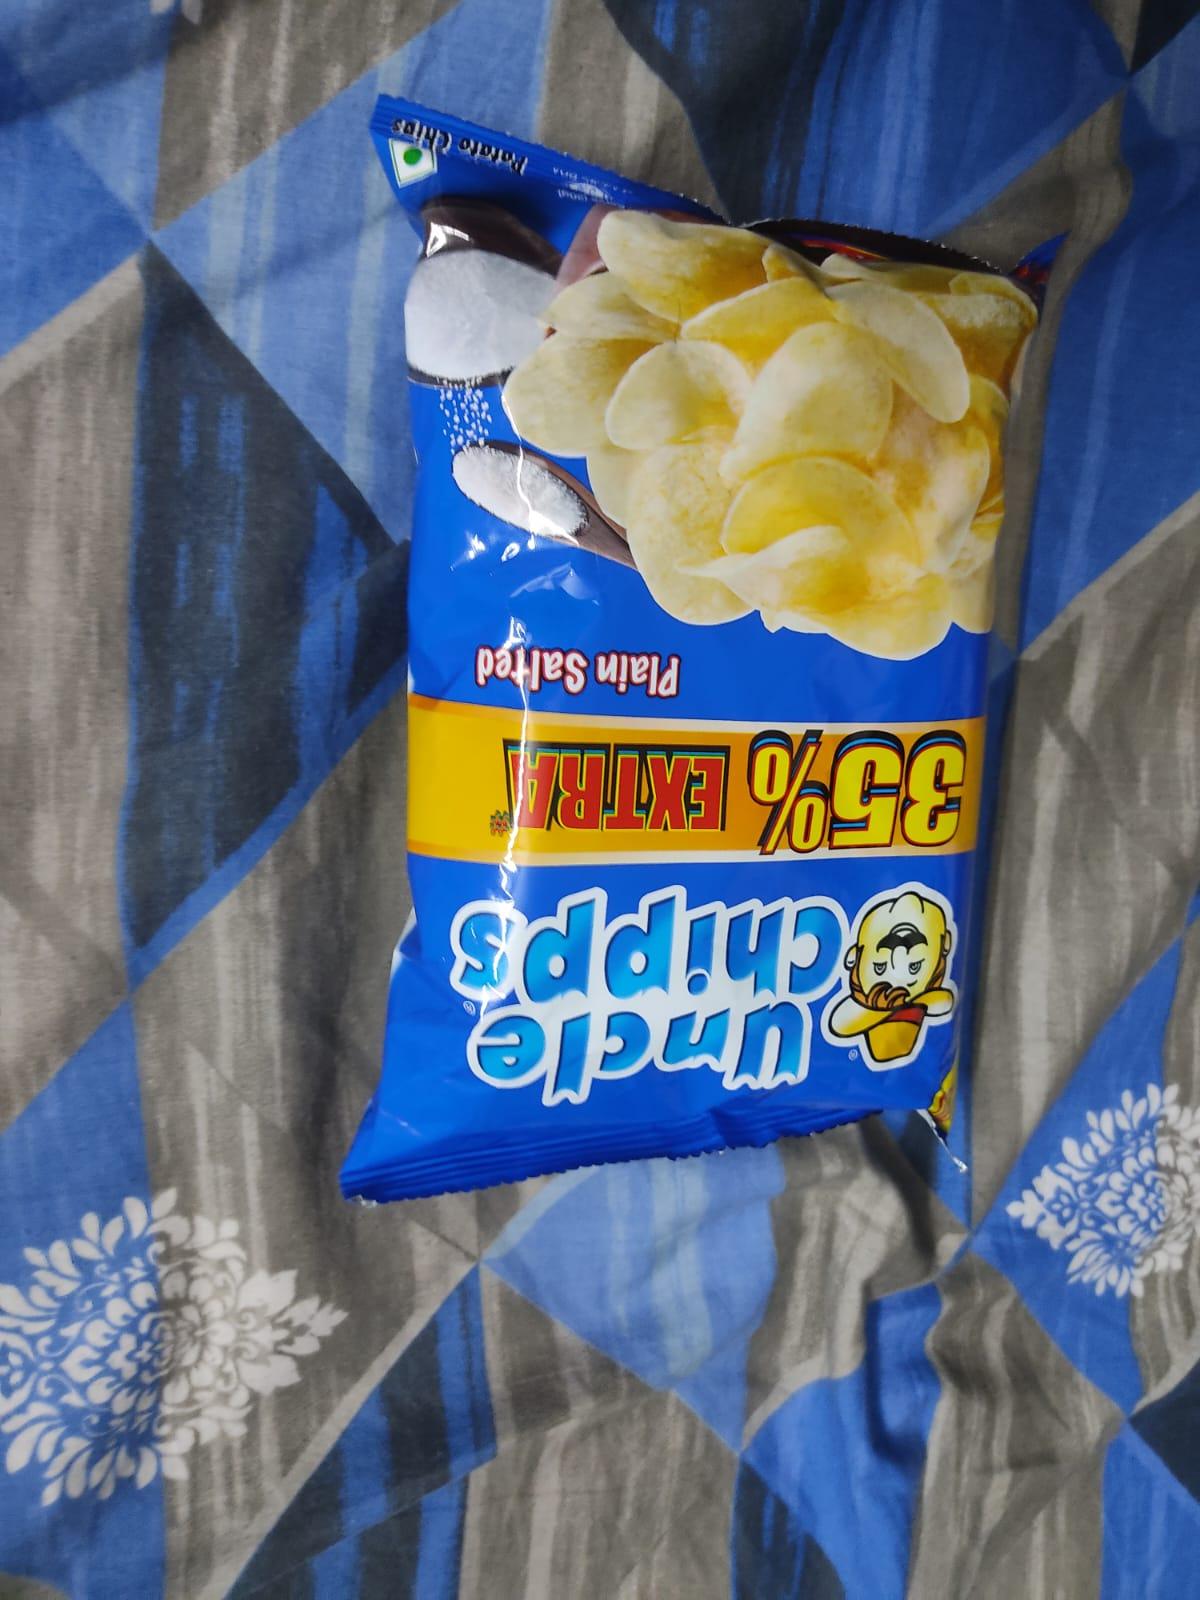020_UncleChips: (400, 239, 1034, 1146)
